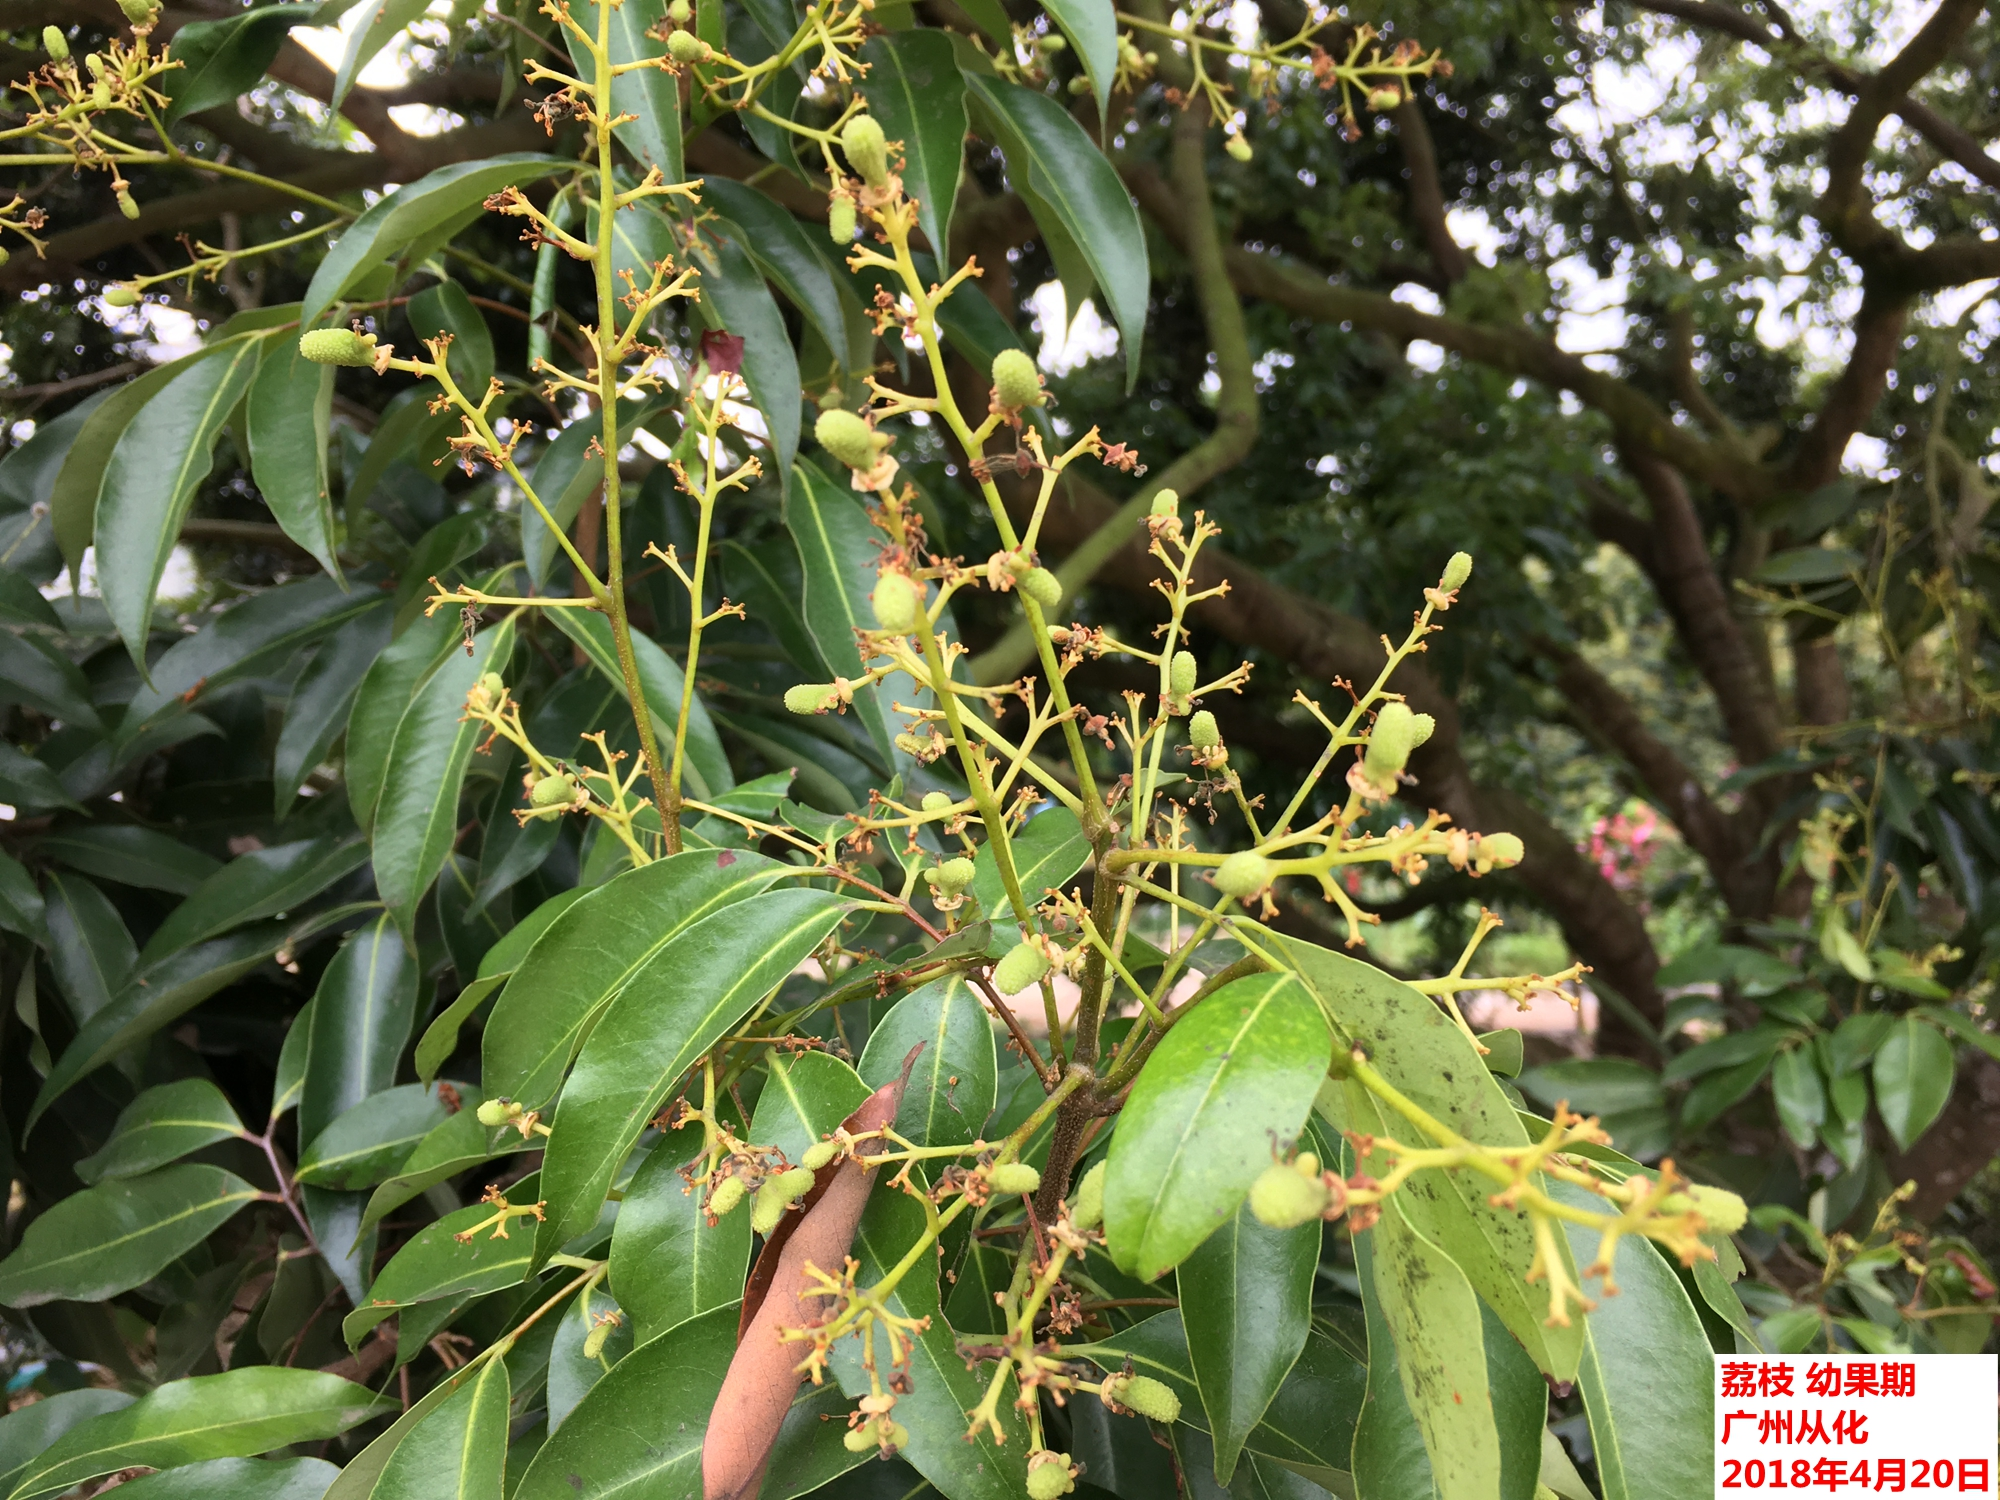幼果分大小期: (1647, 1171, 1753, 1245), (290, 318, 395, 380), (1250, 1150, 1328, 1231), (746, 1164, 822, 1238), (839, 109, 894, 206), (817, 407, 887, 482), (1364, 695, 1413, 800), (984, 350, 1050, 425), (1203, 845, 1283, 903), (1457, 818, 1531, 881), (1094, 1369, 1180, 1421), (836, 1412, 913, 1467), (866, 564, 923, 637), (1019, 1440, 1085, 1500), (1420, 540, 1472, 614), (992, 934, 1049, 997), (1011, 555, 1072, 611), (776, 674, 855, 718), (1135, 484, 1191, 545), (917, 852, 981, 901), (657, 25, 724, 69), (822, 180, 865, 247), (797, 1133, 858, 1172), (80, 50, 117, 117), (1164, 648, 1198, 714), (1189, 704, 1224, 769), (472, 1090, 524, 1131), (709, 1169, 748, 1223), (917, 786, 961, 834), (576, 1309, 617, 1360), (1219, 120, 1261, 167), (39, 19, 79, 69), (980, 1161, 1039, 1194), (101, 269, 148, 310), (528, 770, 578, 808), (110, 175, 146, 225), (472, 666, 509, 712), (117, 2, 164, 32), (1364, 84, 1402, 115), (1028, 30, 1068, 58), (663, 2, 694, 24)
